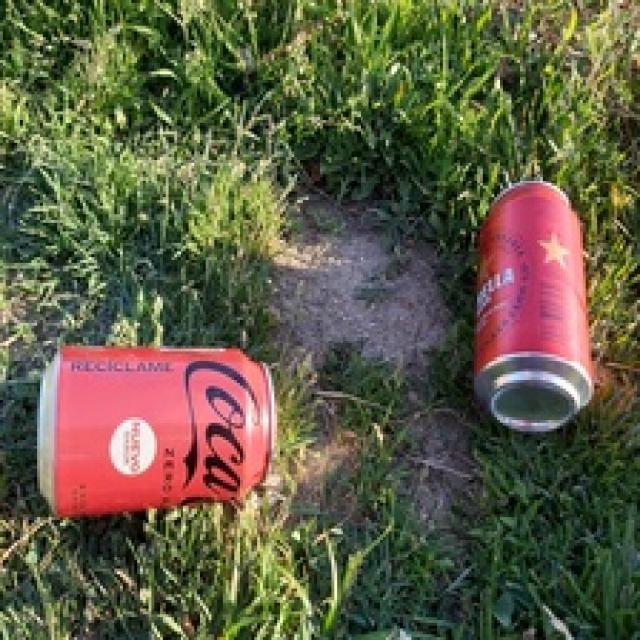recyclable: (36, 345, 277, 518), (472, 178, 596, 434)
